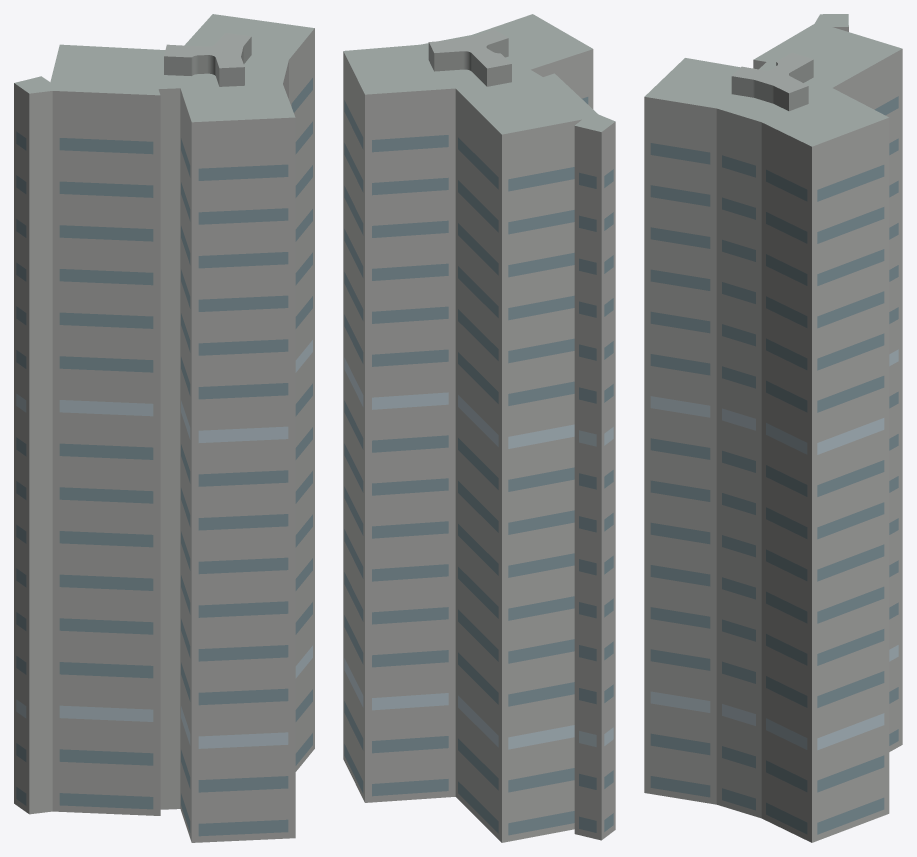
File: fallback-gangdong-lotte-castle-first-106.glb
The picture shows the model from 3 angles, left to right: view 1: azimuth 30°, elevation 25°; view 2: azimuth 150°, elevation 25°; view 3: azimuth 270°, elevation 25°; orthographic projection. The views are drawn at different scales.
Visible parts, largest first — view 1: fallback-gangdong-lotte-castle-first-106; view 2: fallback-gangdong-lotte-castle-first-106; view 3: fallback-gangdong-lotte-castle-first-106.
Boxes of the visible parts, x1,y1,x2,y2 form: fallback-gangdong-lotte-castle-first-106: (14,14,314,842); fallback-gangdong-lotte-castle-first-106: (343,14,615,842); fallback-gangdong-lotte-castle-first-106: (644,14,902,842).
Bounding box in the file's own units: 37.91 × 95 × 31.13.
